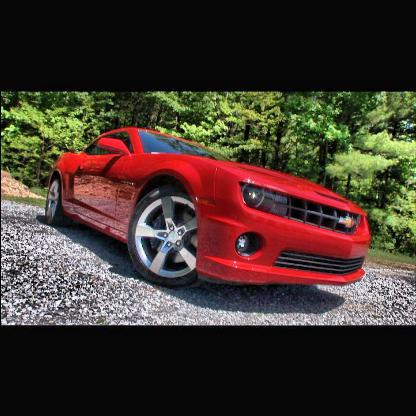Chevrolet Camaro Convertible 2012: (44, 126, 375, 297)
